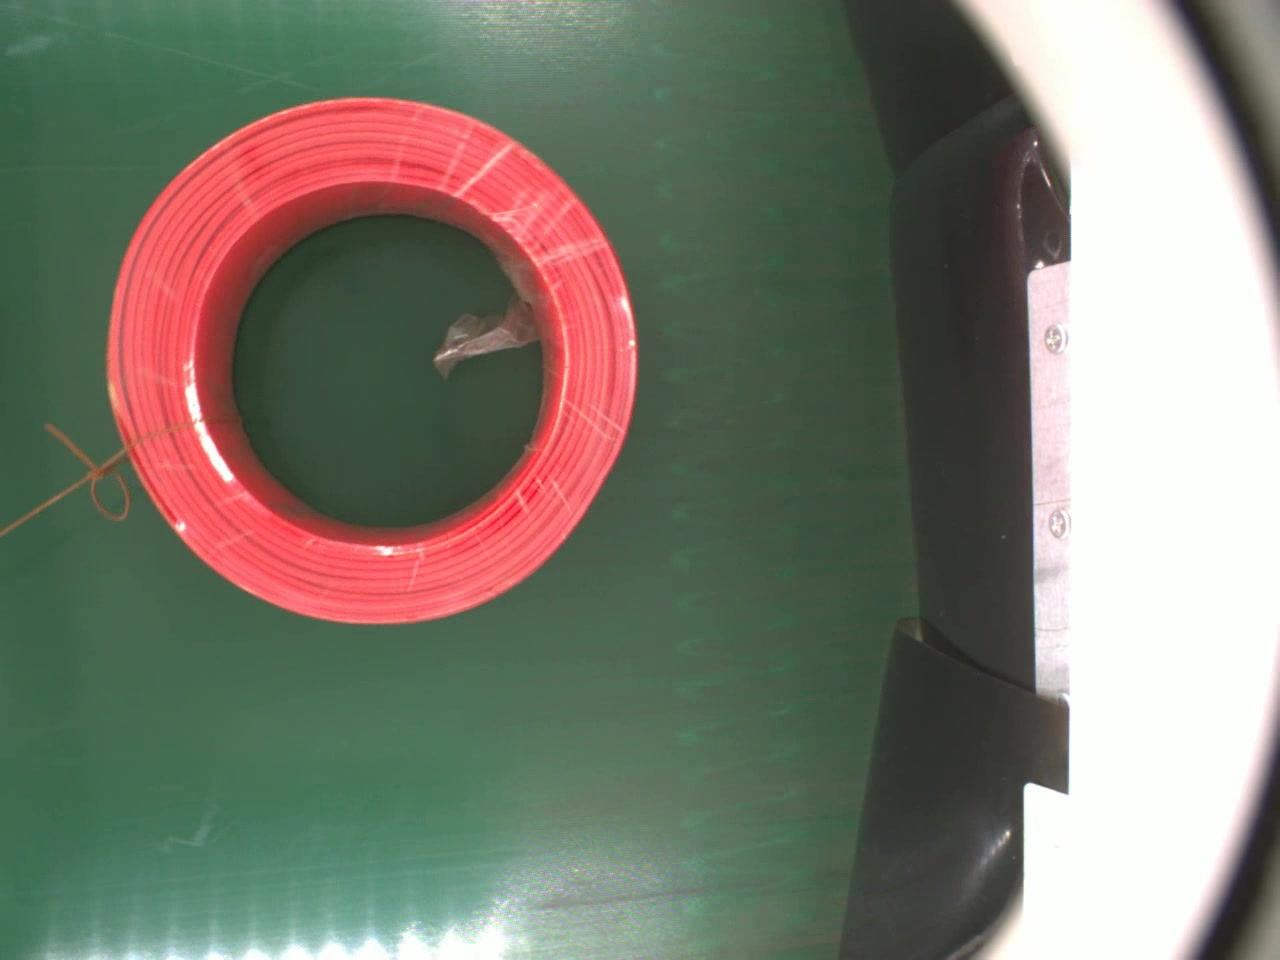red: (92, 86, 637, 625)
